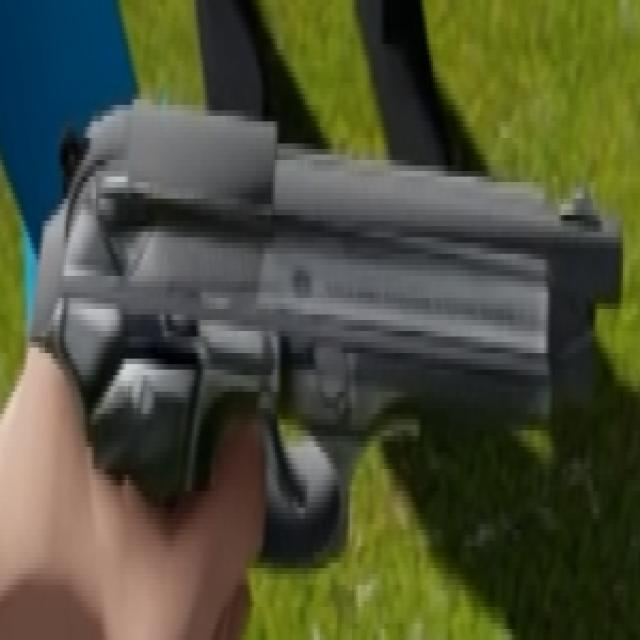Pistol: (35, 61, 600, 570)
